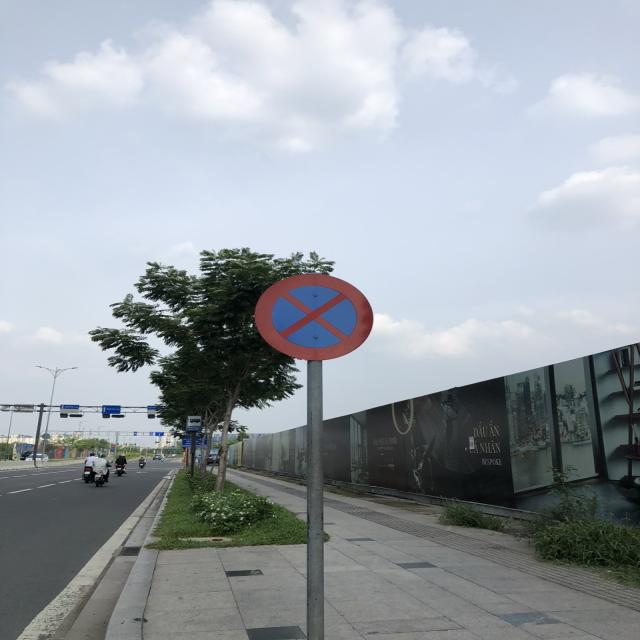Bien bao cam dung xe va do xe: (250, 269, 379, 363)
